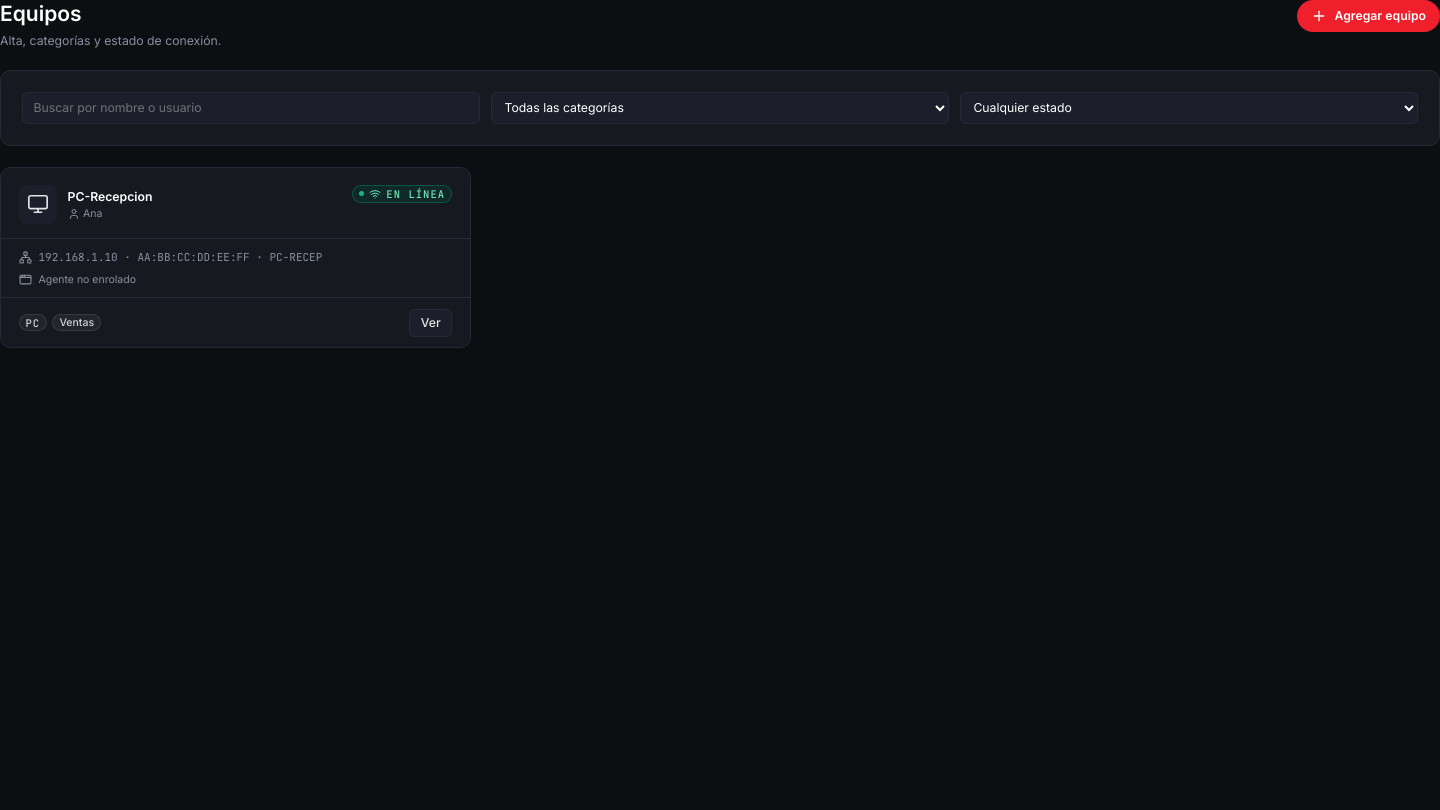
muestra la matriz de control en la pestaña de aplicaciones
Expected: the text "PC-Recepcion" is shown, [68,188,152,205]
Step 1. Click the button "Ver" → (431, 322), box [409,308,452,336]
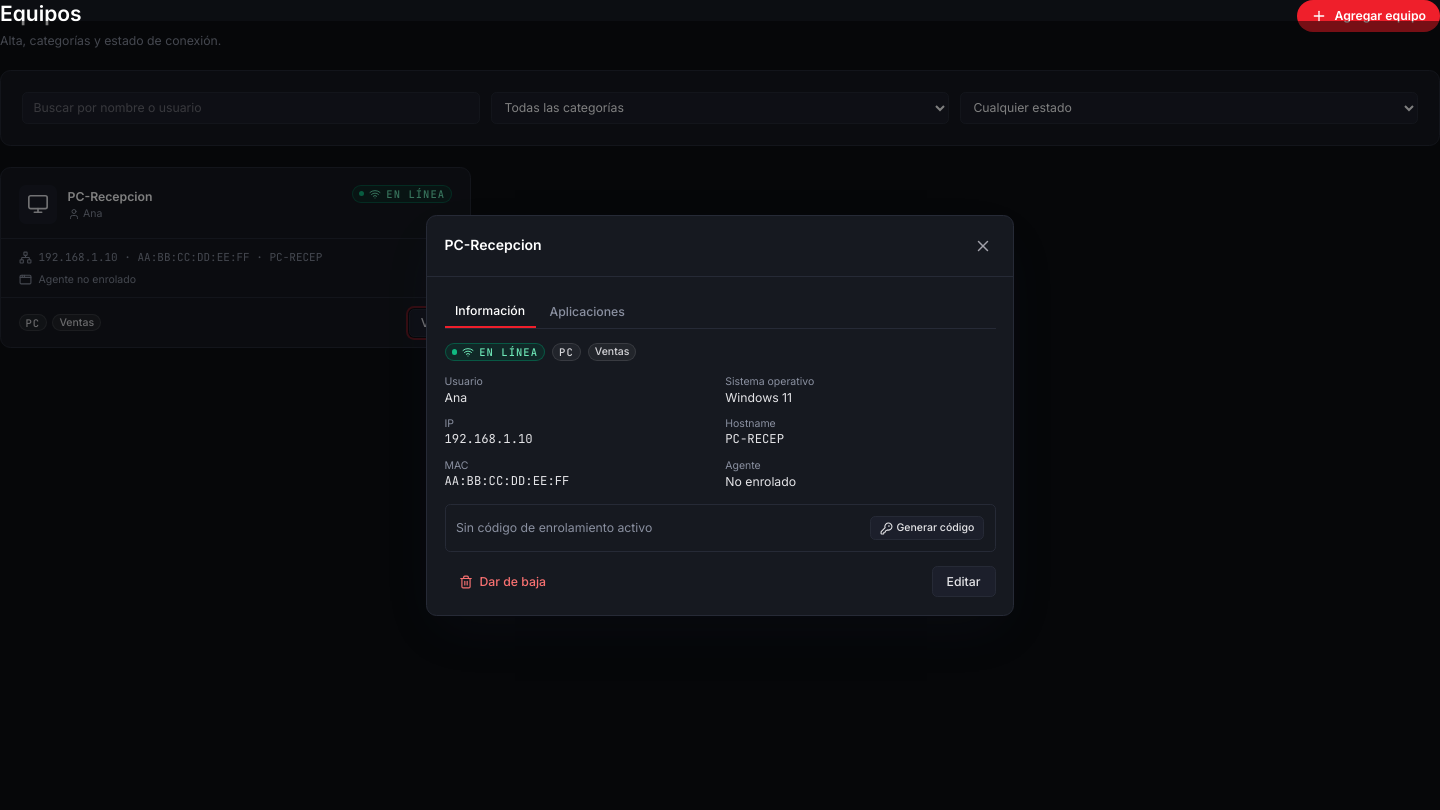
Expected: the text "Sin código de enrolamiento activo" is shown, [456,519,652,537]
Step 2. Click the button "Aplicaciones" → (587, 312), box [539,295,635,328]
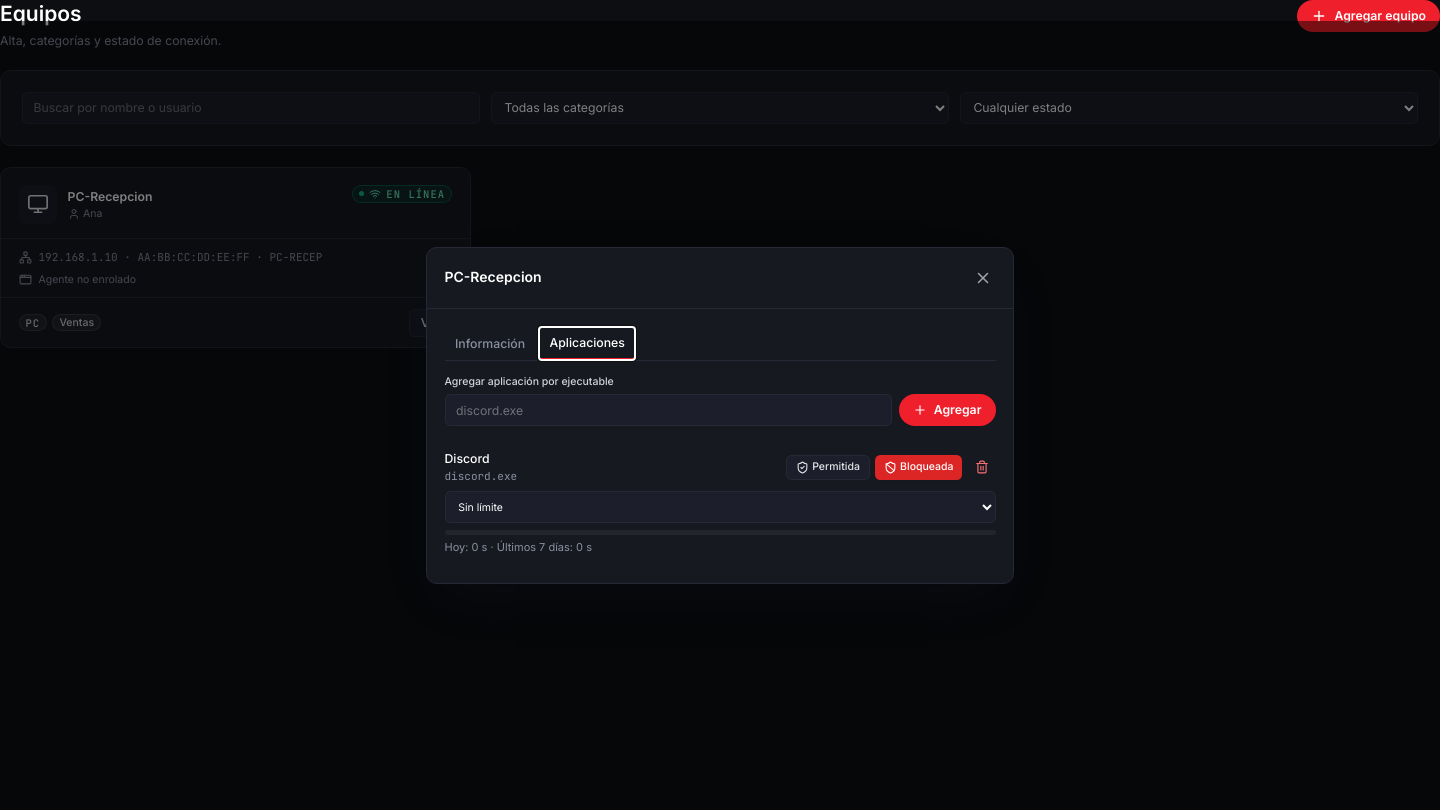
Expected: the text "Discord" is shown, [444,451,490,466]
Expected: the button "Bloqueada" is shown, [875,455,962,480]
